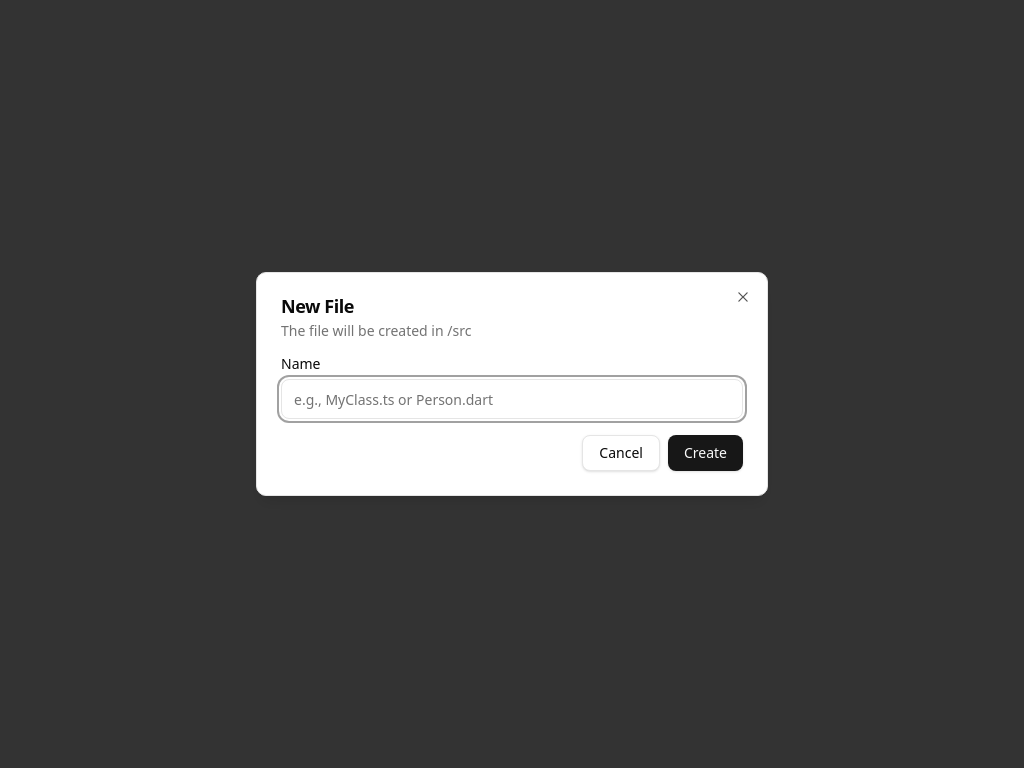
Test case: Create File Integration › prevents duplicate file names
Type "existing.ts" into the field at (512, 399), box [281,379,743,419]
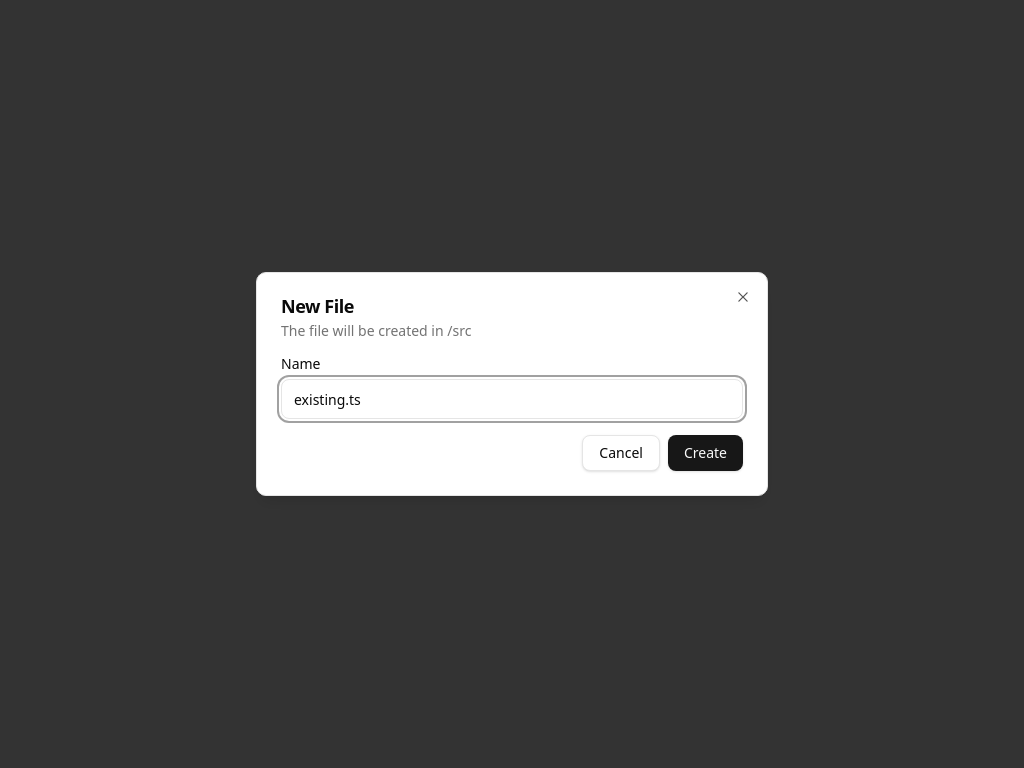
Click the button "Create" at (705, 453), box [668,435,743,471]
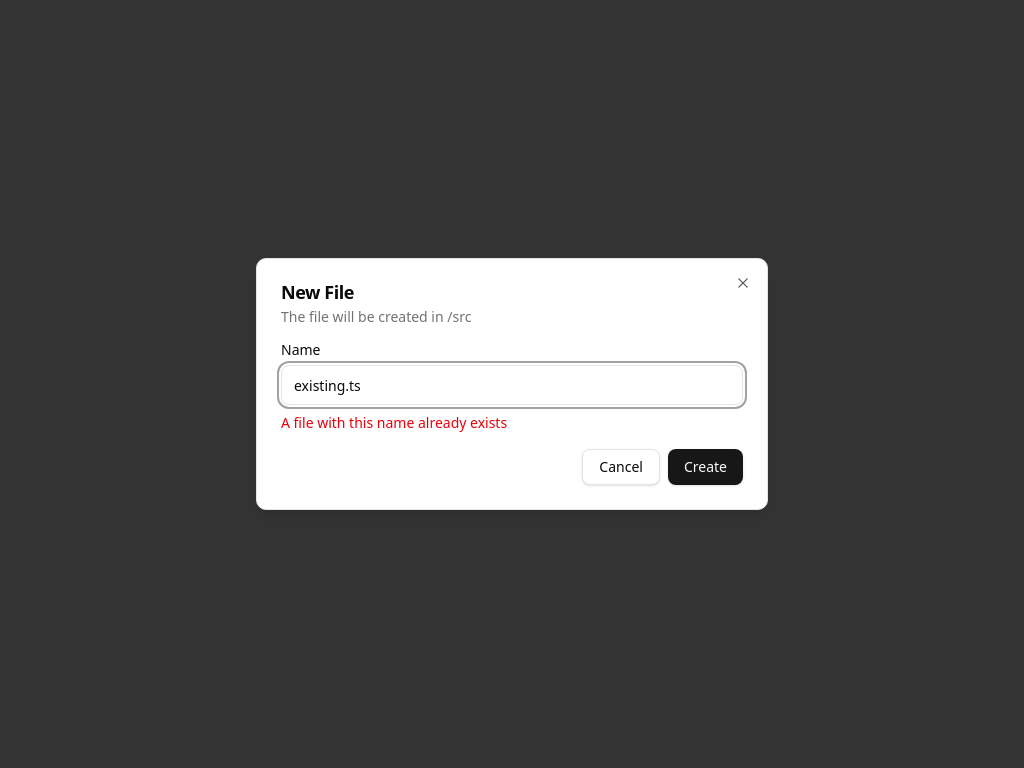
Result: the text "A file with this name already exists" is shown at [281,413,507,432]
